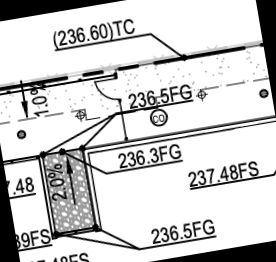door: (94, 75, 123, 105)
